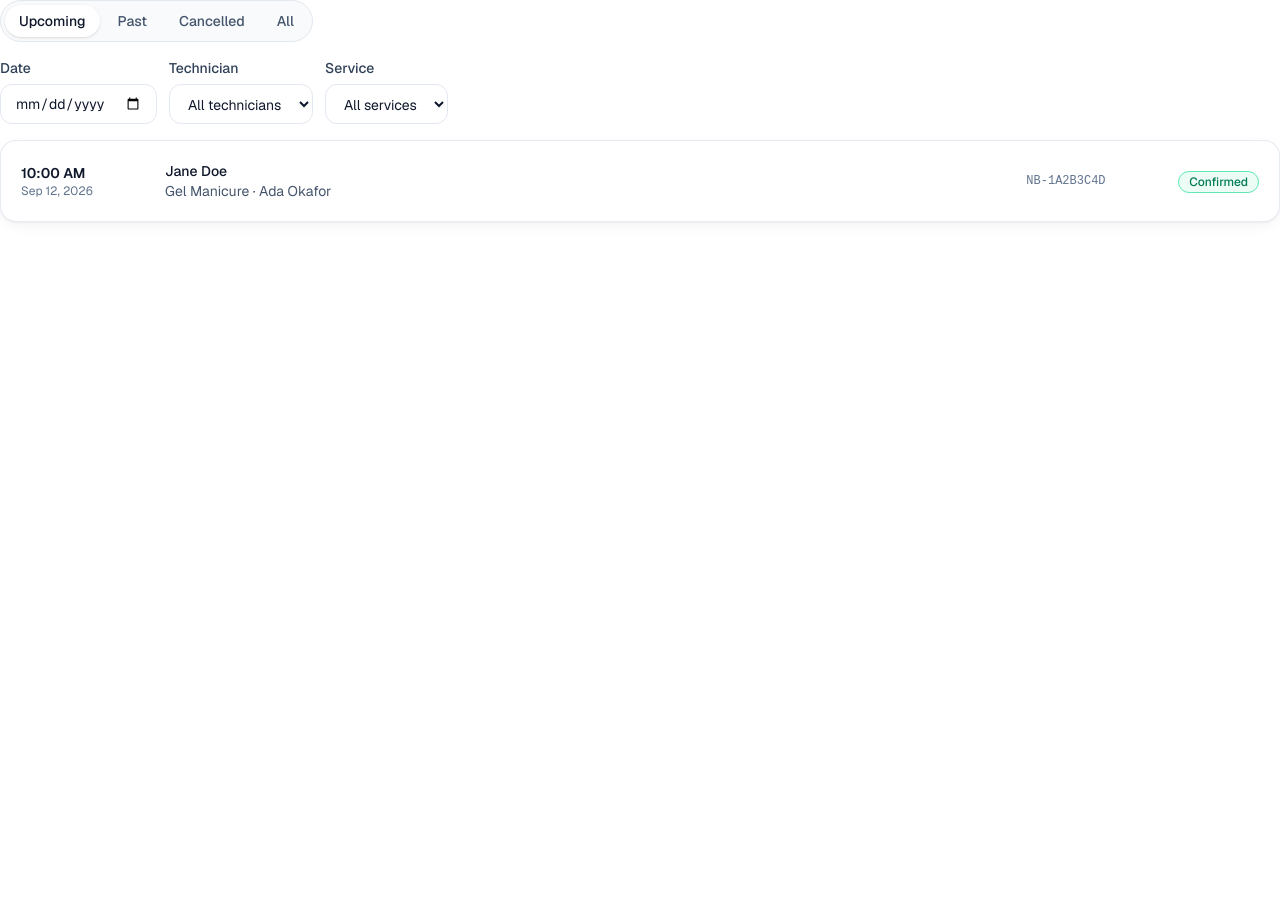
Test: BookingList — rows › opens the detail dialog on row click
The width and height of the screenshot is (1280, 900).
What coordinates should you click on to do the following:
click the button with aria-label "view booking details for jane doe"
I would click on:
 (53, 173)
Its box is x1=21 y1=161 x2=1154 y2=201.
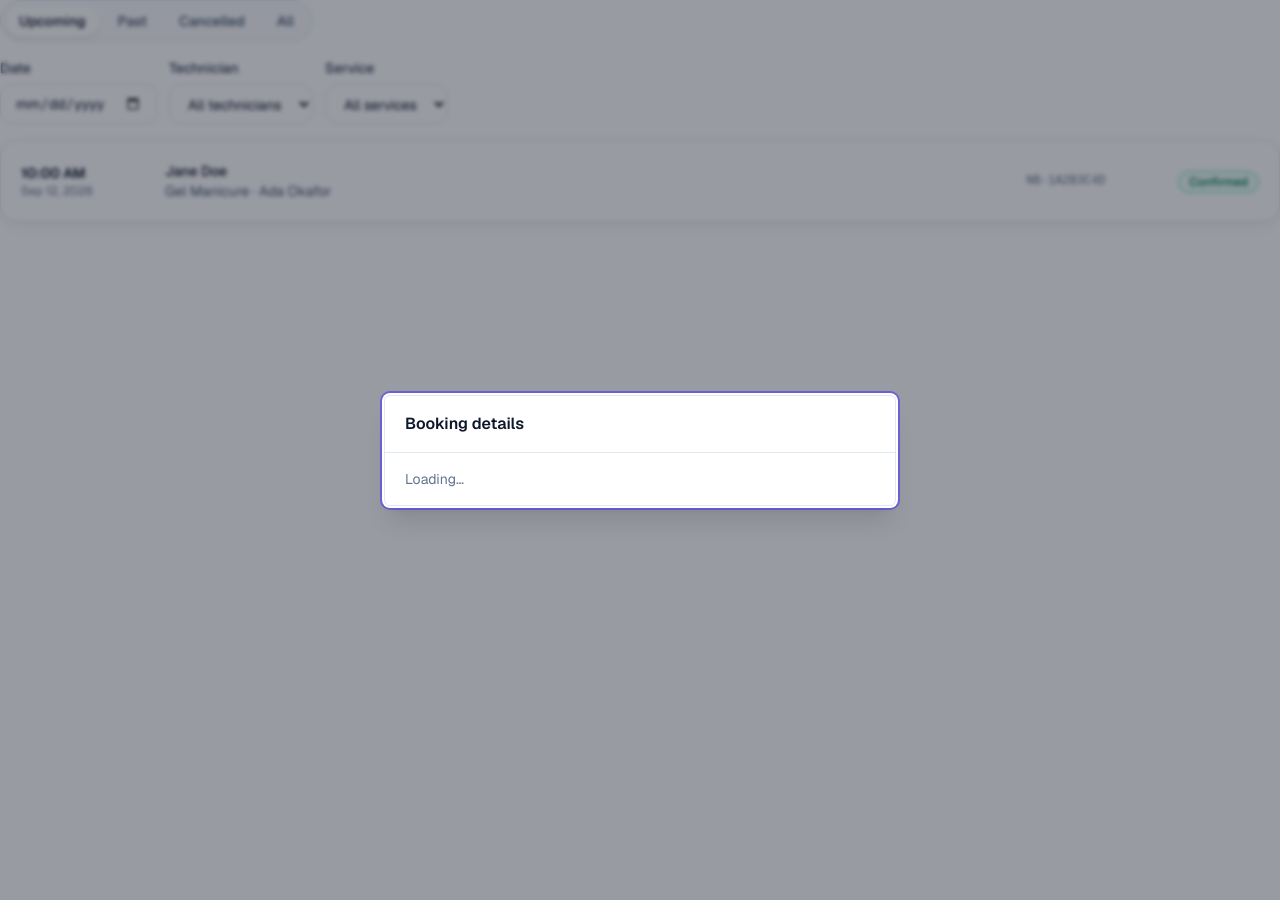
Now the dialog "Booking details Loading…" is shown, box x1=384 y1=394 x2=896 y2=506
